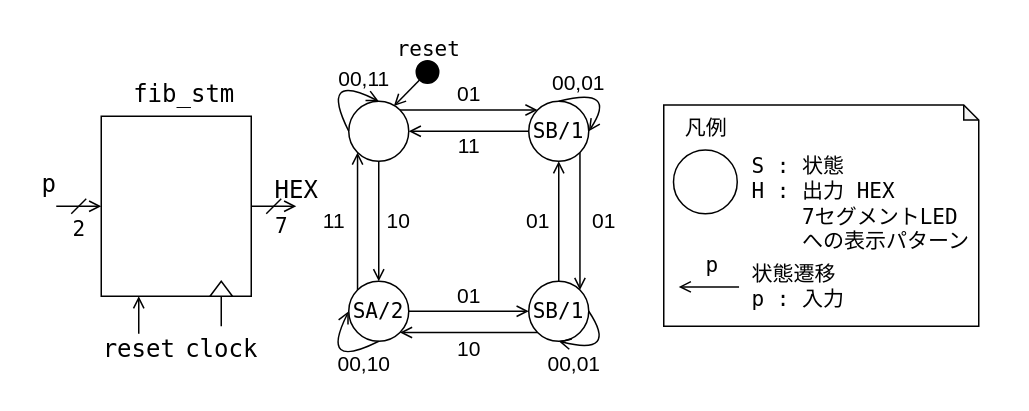
Some shapes in this 1029 by 411 pixel diagram are drawn without their labels. Each missing label, with the centre of its shape:
"S/H" goes at (704,181).
"SA/3" goes at (378,130).
